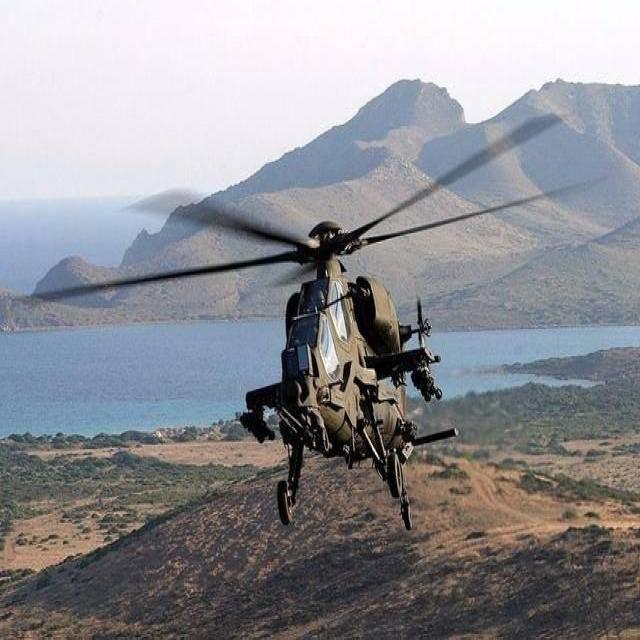MIL_HELO: (63, 102, 569, 556)
